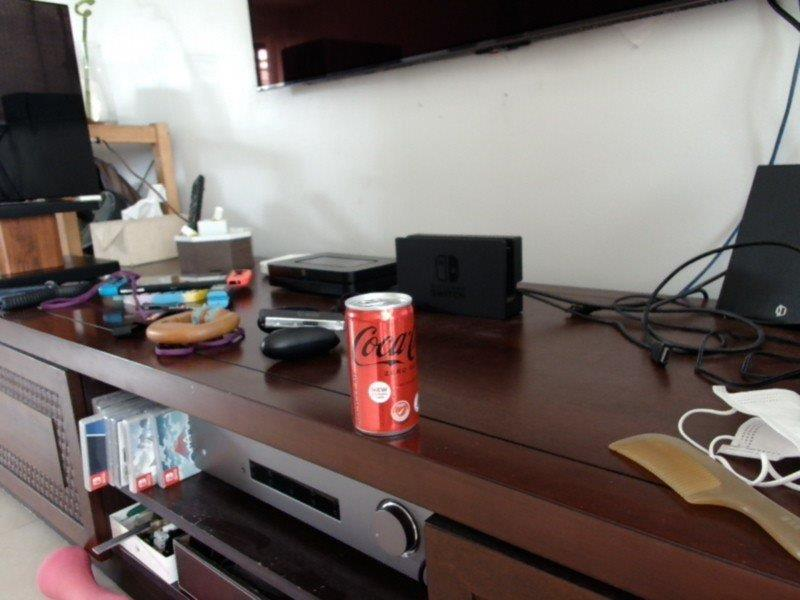Coke: (344, 293, 423, 439)
